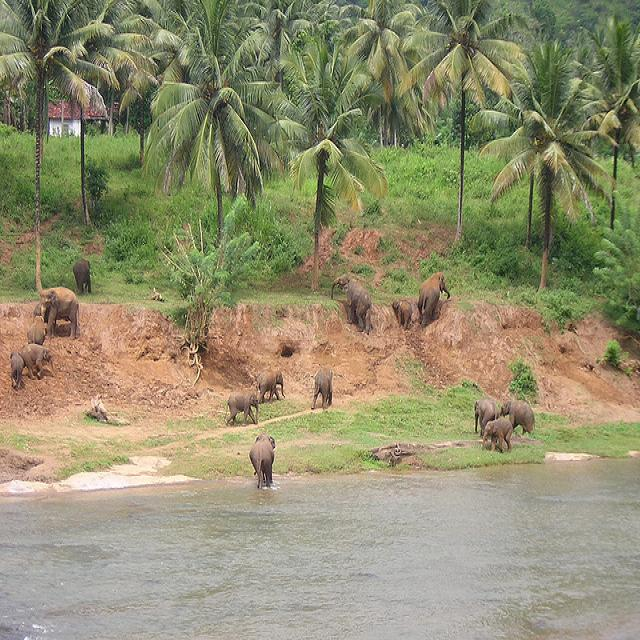Elephant: (330, 274, 372, 334), (38, 285, 79, 339), (9, 342, 54, 389), (417, 271, 450, 325), (249, 434, 275, 489), (500, 399, 534, 436), (224, 391, 258, 425), (481, 416, 513, 452), (473, 397, 500, 436), (256, 369, 285, 403), (391, 296, 419, 329), (311, 368, 333, 409), (72, 259, 91, 293), (26, 315, 48, 344)
